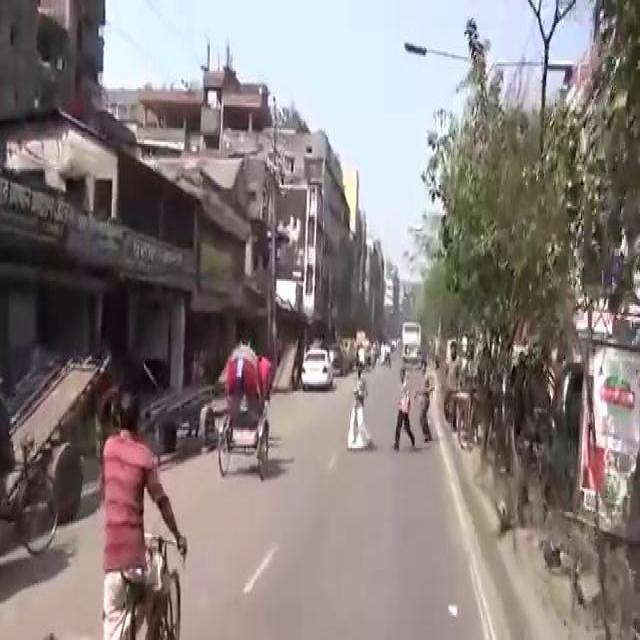13: (215, 333, 271, 481)
5: (298, 342, 332, 394)
Motorcycle: (96, 383, 190, 637)
Truck: (400, 316, 420, 360)
